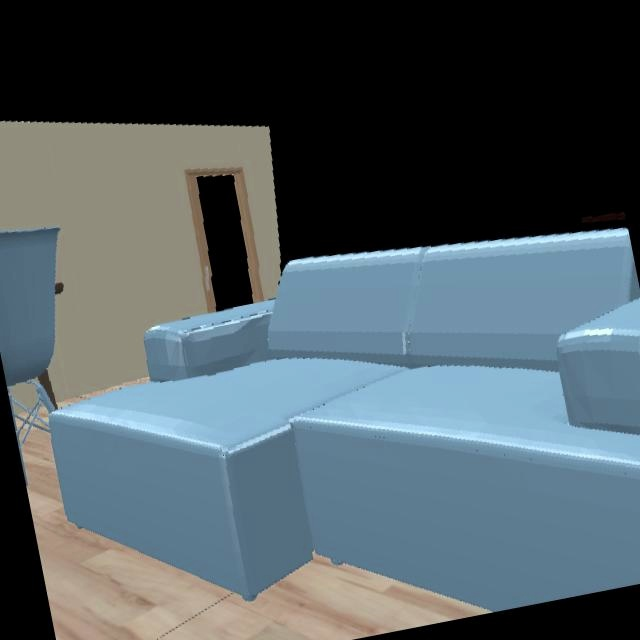chair: (0, 227, 59, 482)
sofa: (50, 230, 640, 609)
